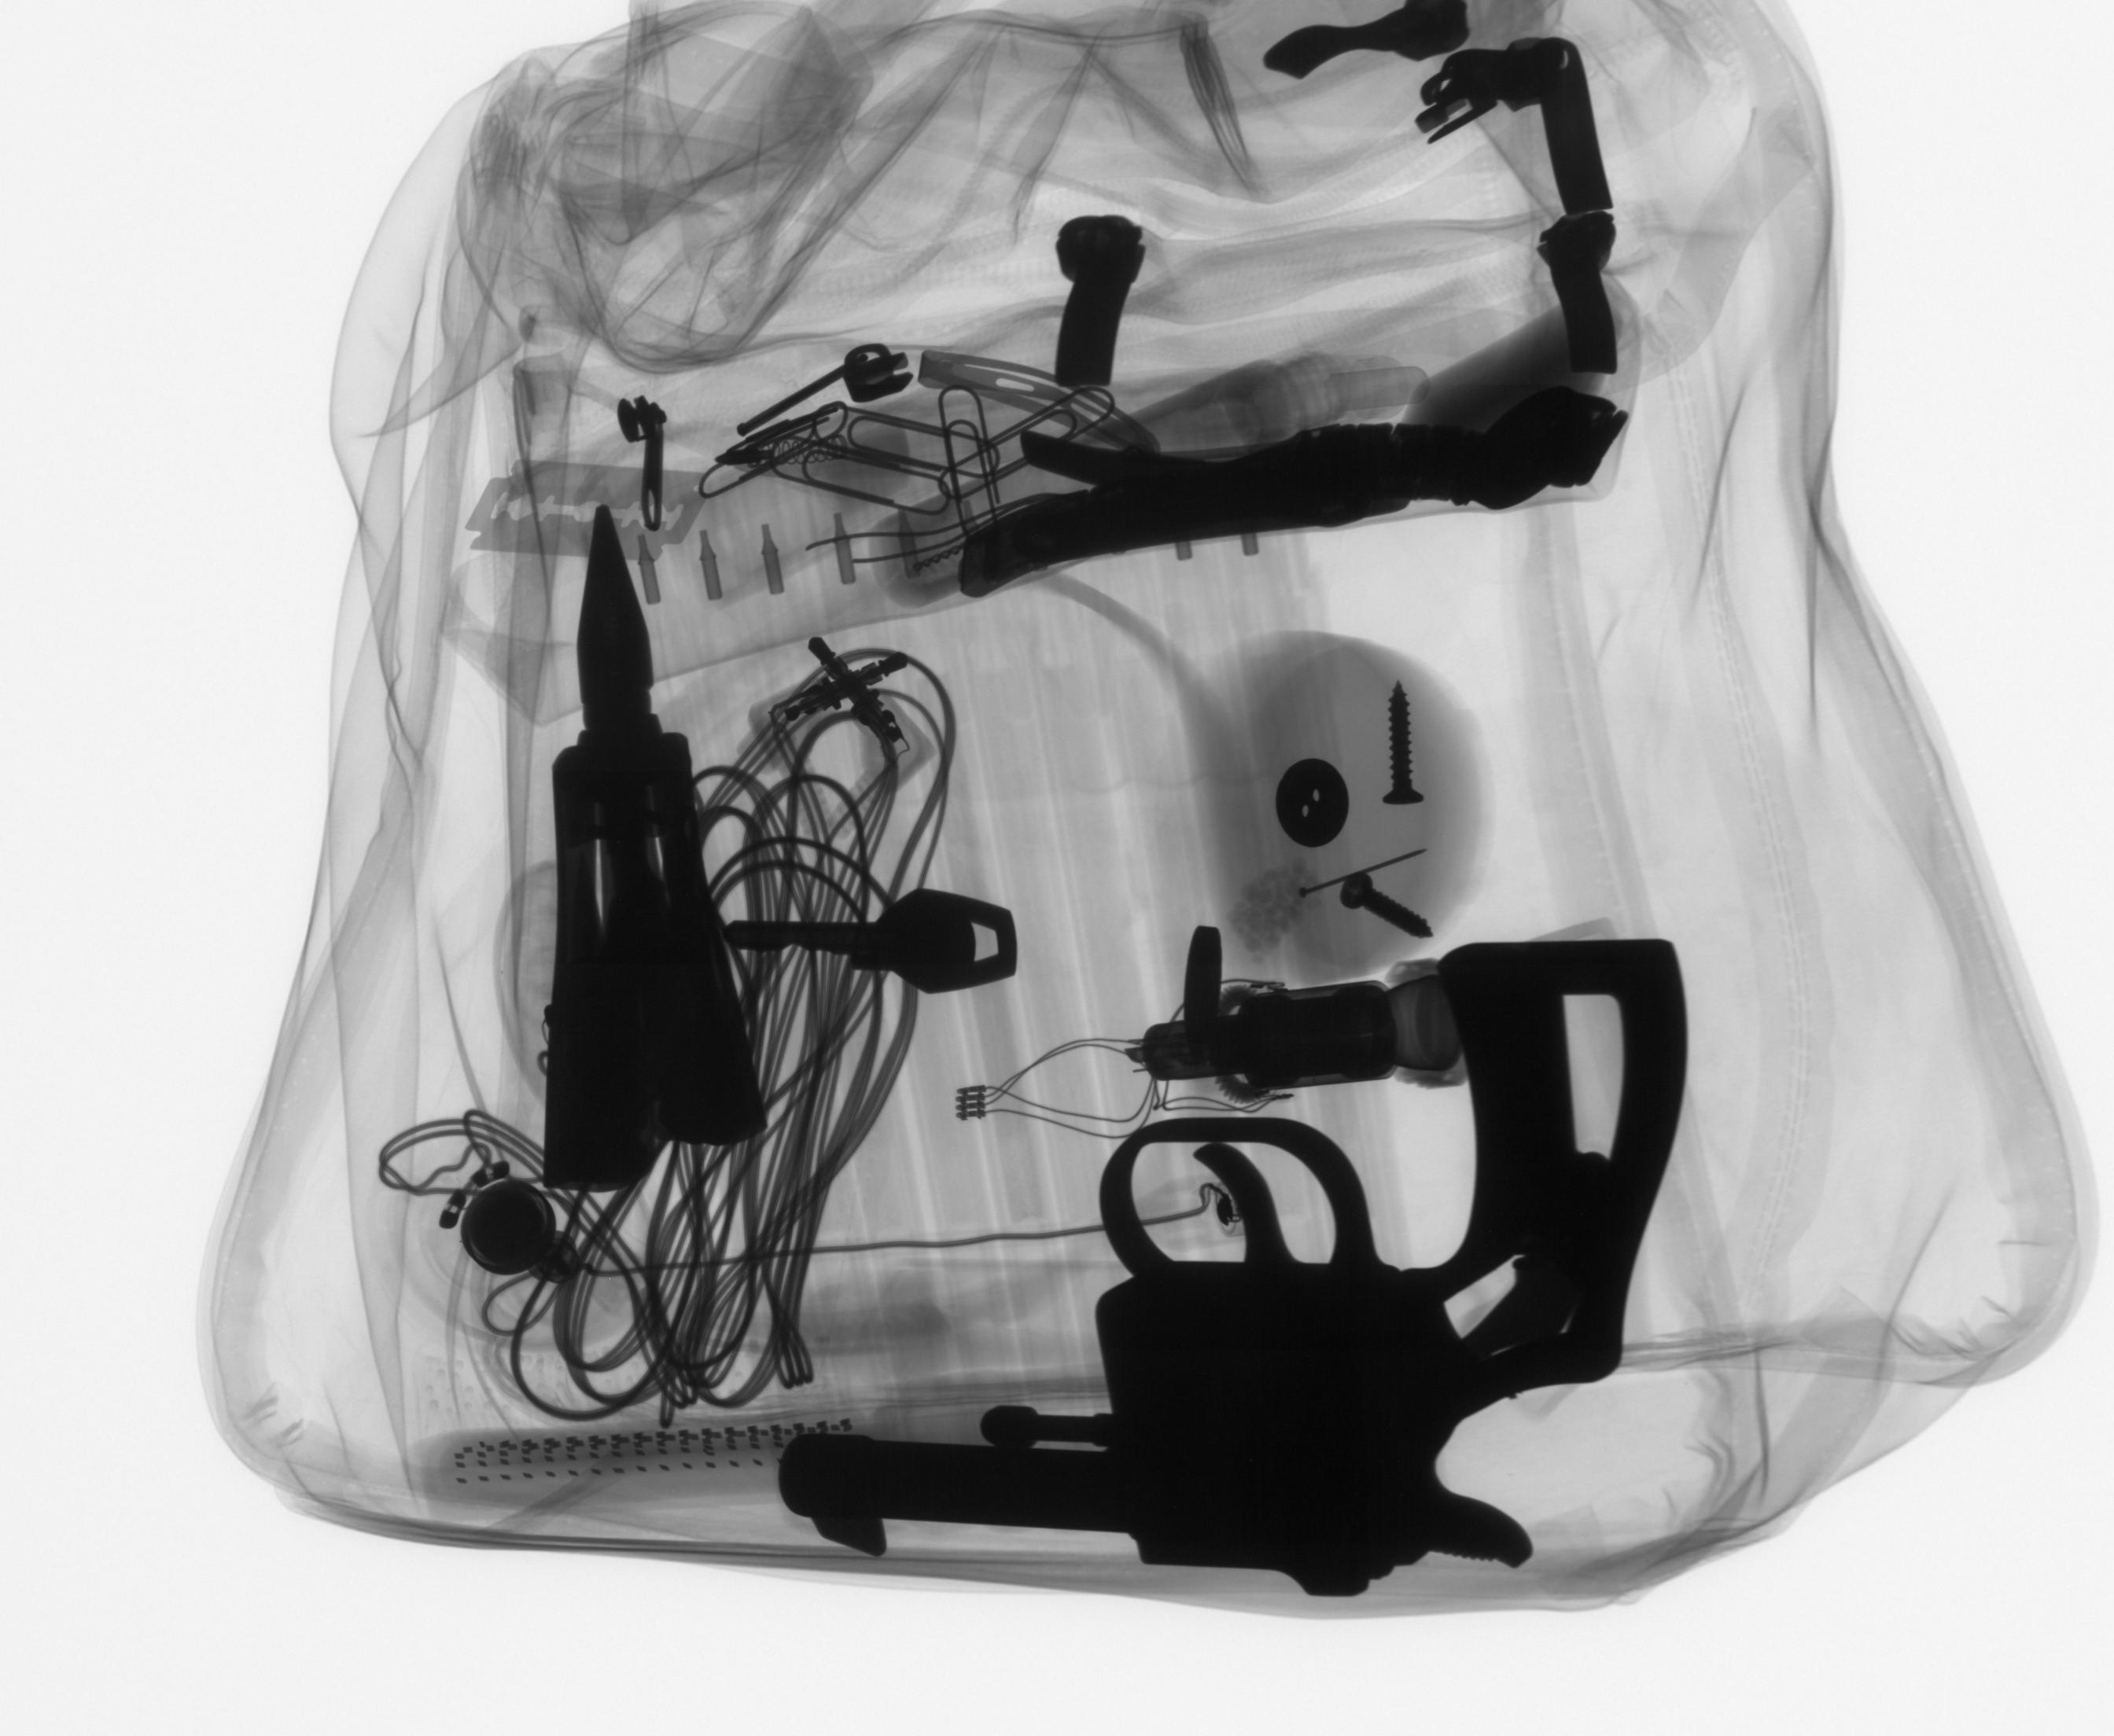Handgun: (770, 926, 1699, 1602)
RazorBlade: (461, 451, 717, 572)
